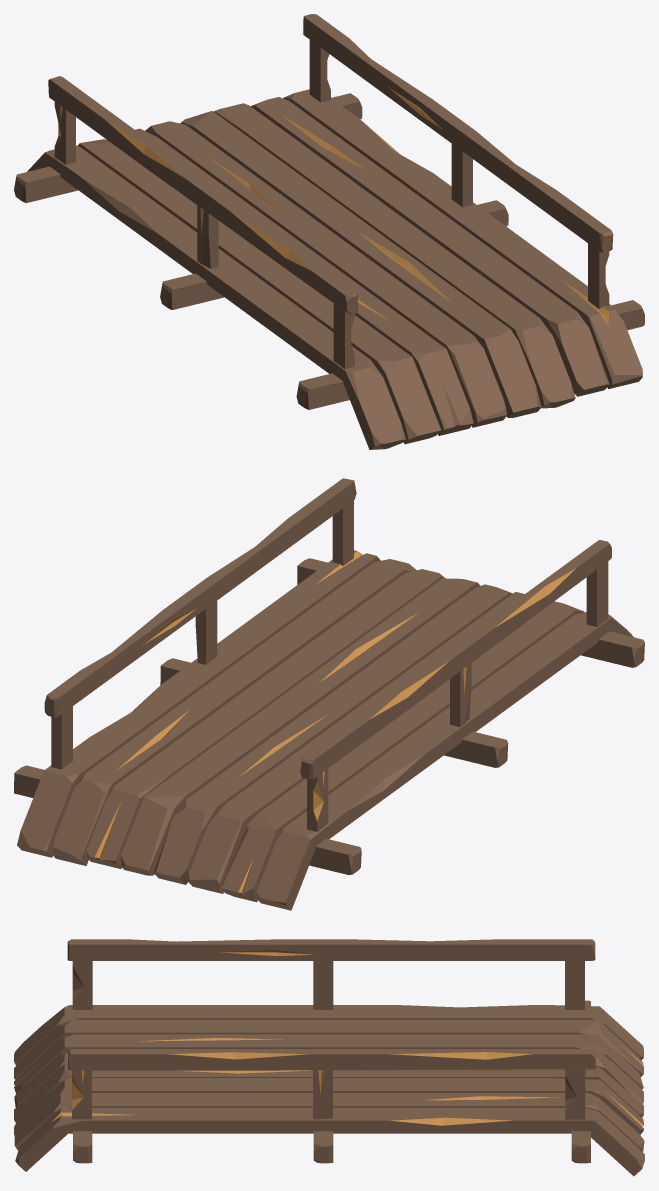
File: Bridge_2.fbx
3 renders of one model, top to bottom at view 1: azimuth 30°, elevation 25°; view 2: azimuth 150°, elevation 25°; view 3: azimuth 270°, elevation 25°, orthographic. The views are drawn at different scales.
Visible parts, largest first — view 1: Bridge_2.001; view 2: Bridge_2.001; view 3: Bridge_2.001.
Part boxes in pixels (left/top/right/bottom): Bridge_2.001: left=14, top=14, right=644, bottom=449; Bridge_2.001: left=14, top=478, right=644, bottom=910; Bridge_2.001: left=14, top=939, right=644, bottom=1176.
Size of the model in its own units: 98.34 by 38.47 by 181.
